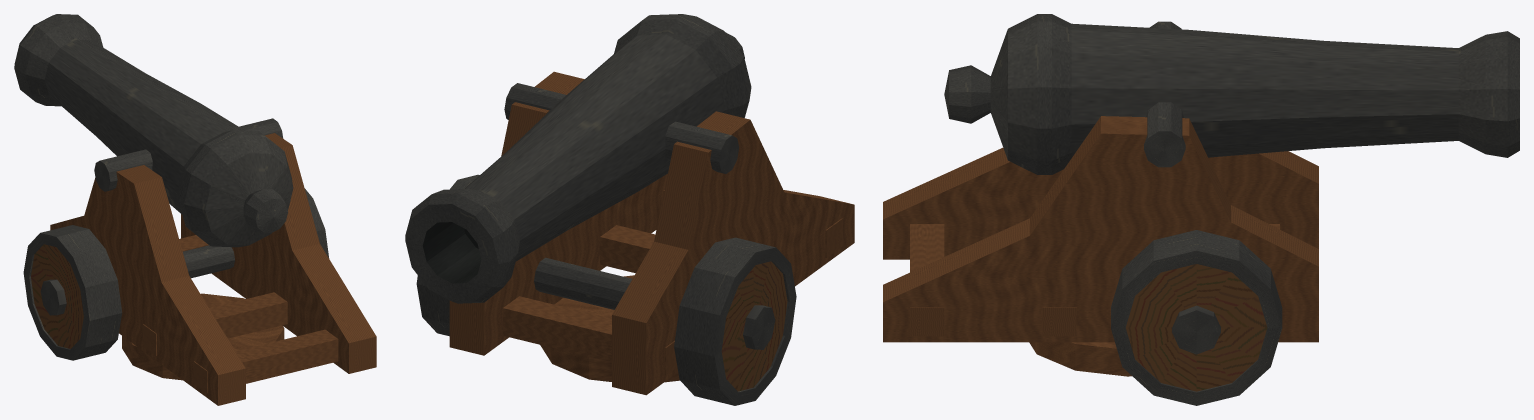
The model's file is cannon.glb.
The picture shows the model from 3 angles, left to right: view 1: azimuth 30°, elevation 25°; view 2: azimuth 150°, elevation 25°; view 3: azimuth 270°, elevation 25°; orthographic projection. The views are drawn at different scales.
Parts seen in each view (by area): view 1: frame, barrel, turntable; view 2: frame, barrel, turntable; view 3: frame, barrel, turntable.
Part boxes in pixels (box(x1,y1,x2,y2)): frame: box(23, 133, 376, 405); barrel: box(14, 14, 293, 247); turntable: box(122, 293, 284, 380); frame: box(416, 71, 854, 405); barrel: box(405, 14, 751, 303); turntable: box(540, 275, 679, 382); frame: box(883, 116, 1318, 405); barrel: box(944, 14, 1519, 174); turntable: box(1029, 342, 1131, 376).
Bounding box in the file's own units: 1.55 × 1.4 × 2.6.
1 material, 1 textured.
